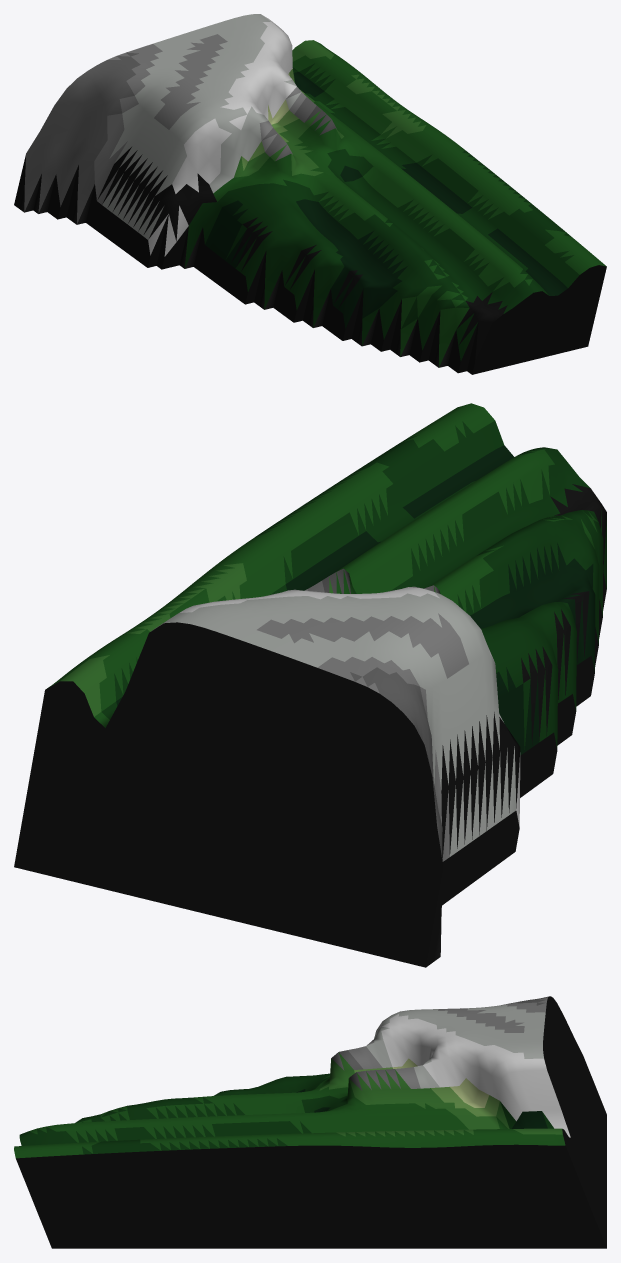
The model's file is green_shell_229.glb.
3 renders of one model, top to bottom at view 1: azimuth 30°, elevation 25°; view 2: azimuth 150°, elevation 25°; view 3: azimuth 270°, elevation 25°, orthographic. The views are drawn at different scales.
Visible parts, largest first — view 1: green_shell_229; view 2: green_shell_229; view 3: green_shell_229.
Boxes of the visible parts, x1,y1,x2,y2 form: green_shell_229: [14, 14, 606, 374]; green_shell_229: [14, 403, 606, 967]; green_shell_229: [14, 996, 606, 1248].
Bounding box in the file's own units: 16 × 8.88 × 29.91.
